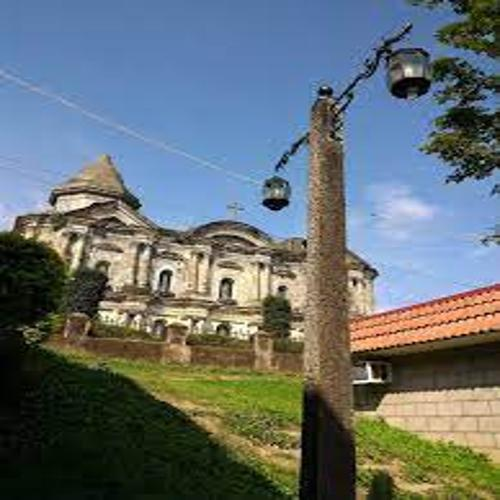Taal Basilica Church: (9, 149, 386, 361)
